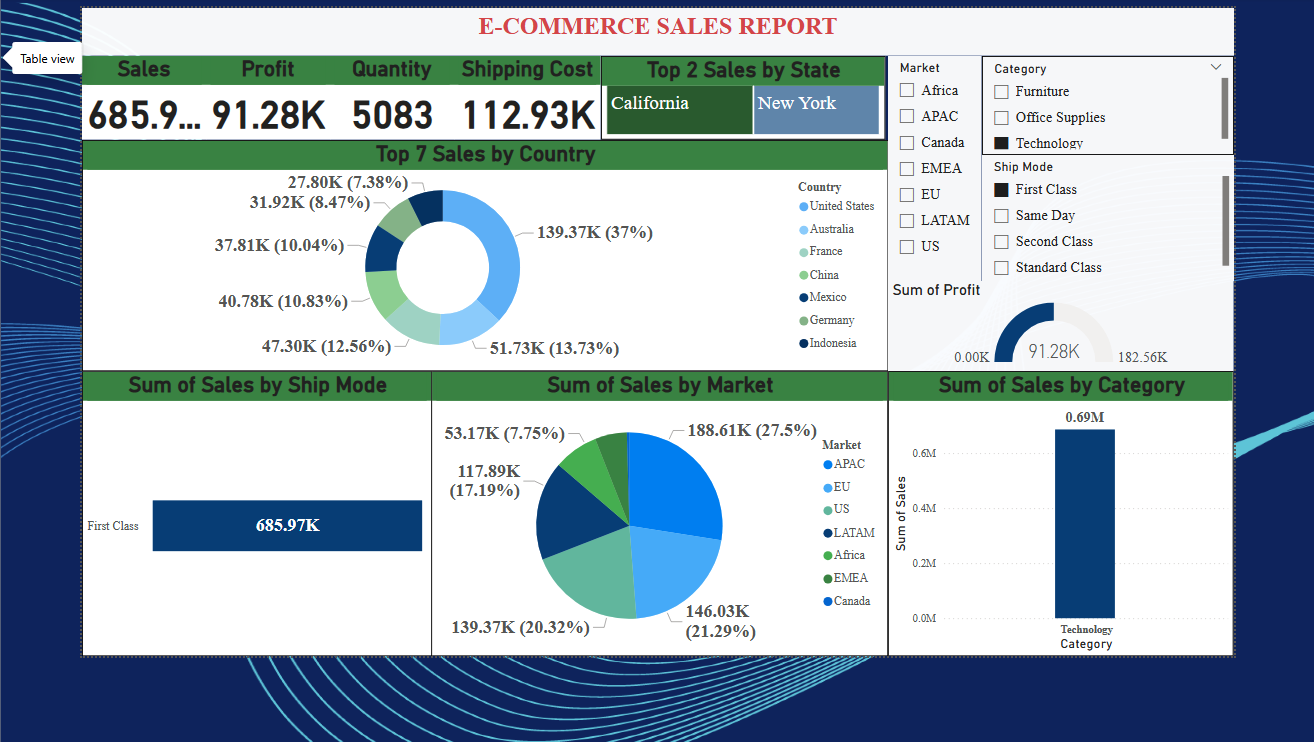

The page's visual inventory and layout, read from the dashboard file:
{"tool":"powerbi","page":{"name":"Sales Report","canvas":[1280,720],"ordinal":0},"visuals":[{"type":"columnChart","fields":{"Category":["Orders.Category"],"Y":["Sum(Orders.Sales)"]},"box":[895.6,403.3,384.4,316.7],"z":0},{"type":"pieChart","fields":{"Category":["Orders.Market"],"Y":["Sum(Orders.Sales)"]},"box":[387.8,403.3,507.8,316.7],"z":1000},{"type":"funnel","fields":{"Category":["Orders.Ship Mode"],"Y":["Sum(Orders.Sales)"]},"box":[0,403.3,388.9,316.7],"z":2000},{"type":"donutChart","title":"Top 7 Sales by Country","fields":{"Category":["Orders.Country"],"Y":["Sum(Orders.Sales)"]},"box":[0,146.7,895.6,256.7],"z":3000},{"type":"treemap","title":"Top 2 Sales by State","fields":{"Group":["Orders.State"],"Values":["Sum(Orders.Sales)"]},"box":[576.7,53.3,315.6,93.3],"z":4000},{"type":"card","title":"Sales","fields":{"Values":["Sum(Orders.Sales)"]},"box":[0,53.3,137.8,93.3],"z":5000},{"type":"card","title":"Profit","fields":{"Values":["Sum(Orders.Profit)"]},"box":[137.8,53.3,137.8,93.3],"z":6000},{"type":"card","title":"Quantity","fields":{"Values":["Sum(Orders.Quantity)"]},"box":[275.6,53.3,137.8,93.3],"z":7000},{"type":"card","title":"Shipping Cost","fields":{"Values":["Sum(Orders.Shipping Cost)"]},"box":[413.3,53.3,163.3,93.3],"z":8000},{"type":"slicer","fields":{"Values":["Orders.Category"]},"box":[1000,53.3,280,110],"z":9000},{"type":"slicer","fields":{"Values":["Orders.Market"]},"box":[895.6,53.3,104.4,250],"z":10000},{"type":"slicer","fields":{"Values":["Orders.Ship Mode"]},"box":[1000,163.3,280,140],"z":11000},{"type":"textbox","box":[0,0,1280,53.3],"z":12000},{"type":"gauge","fields":{"Y":["Sum(Orders.Profit)"]},"box":[895.6,303.3,384.4,100],"z":12001}]}

Visuals, with their boxes on the page's 1280x720 design canvas (x1, y1, x2, y2). These are canvas units, not pixel positions in the 1314x742 screenshot, which may show the page scaled, cropped or inside an application window:
columnChart - Orders.Category x Sum(Orders.Sales): select_region(896, 403, 1280, 720)
pieChart - Orders.Market x Sum(Orders.Sales): select_region(388, 403, 896, 720)
funnel - Orders.Ship Mode x Sum(Orders.Sales): select_region(0, 403, 389, 720)
"Top 7 Sales by Country" donutChart: select_region(0, 147, 896, 403)
"Top 2 Sales by State" treemap: select_region(577, 53, 892, 147)
"Sales" card: select_region(0, 53, 138, 147)
"Profit" card: select_region(138, 53, 276, 147)
"Quantity" card: select_region(276, 53, 413, 147)
"Shipping Cost" card: select_region(413, 53, 577, 147)
slicer - Orders.Category: select_region(1000, 53, 1280, 163)
slicer - Orders.Market: select_region(896, 53, 1000, 303)
slicer - Orders.Ship Mode: select_region(1000, 163, 1280, 303)
textbox: select_region(0, 0, 1280, 53)
gauge - Sum(Orders.Profit): select_region(896, 303, 1280, 403)
